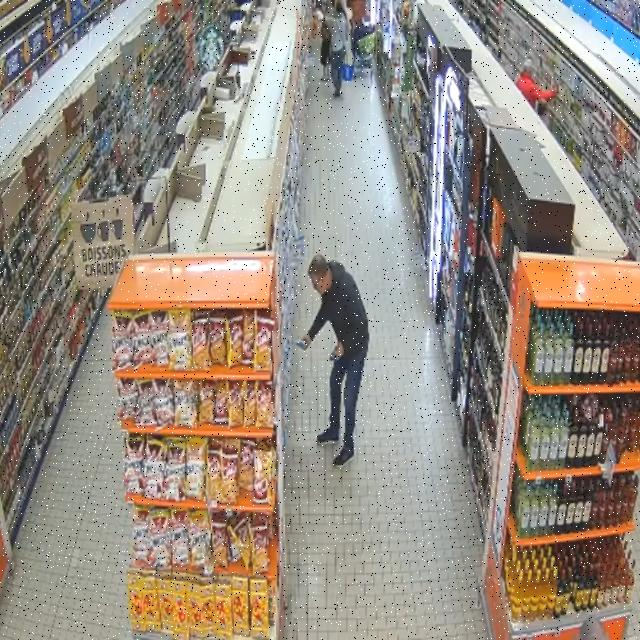article: (293, 339, 308, 351), (329, 346, 338, 361)
hands: (336, 342, 344, 358), (302, 334, 311, 344)
person: (303, 255, 369, 468), (325, 0, 349, 97), (516, 59, 557, 108)
